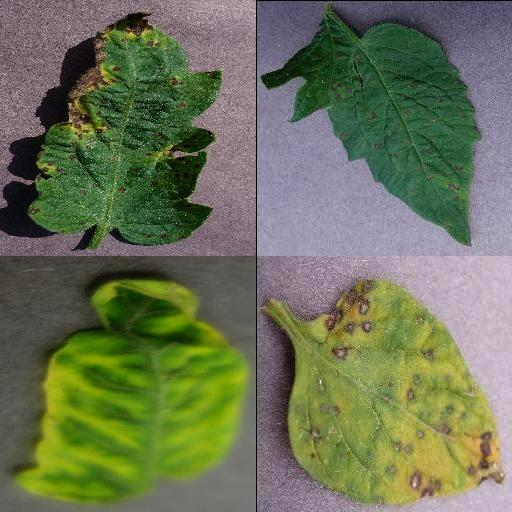Septoria: (260, 22, 478, 248), (287, 278, 503, 506), (26, 14, 222, 246)
Yellow Leaf Curl Virus: (10, 279, 248, 507)
